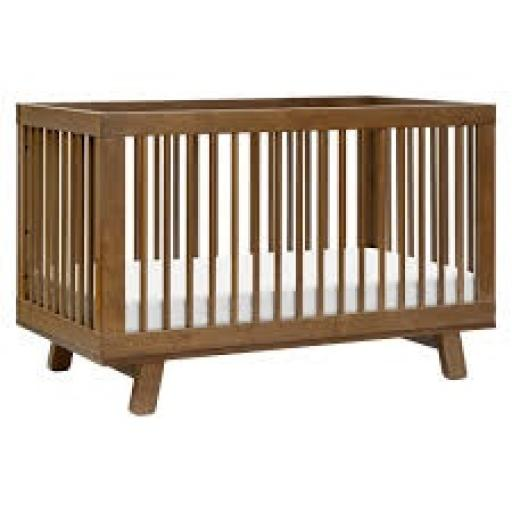crib: (14, 95, 496, 417)
